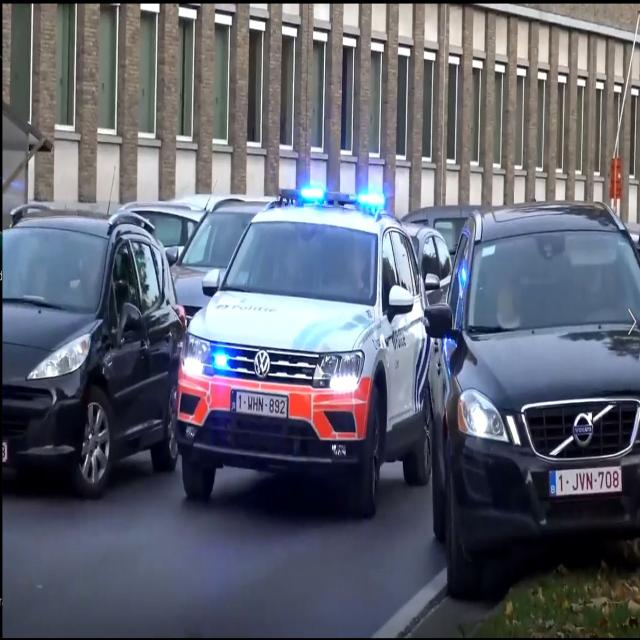emergency: (173, 188, 430, 516)
